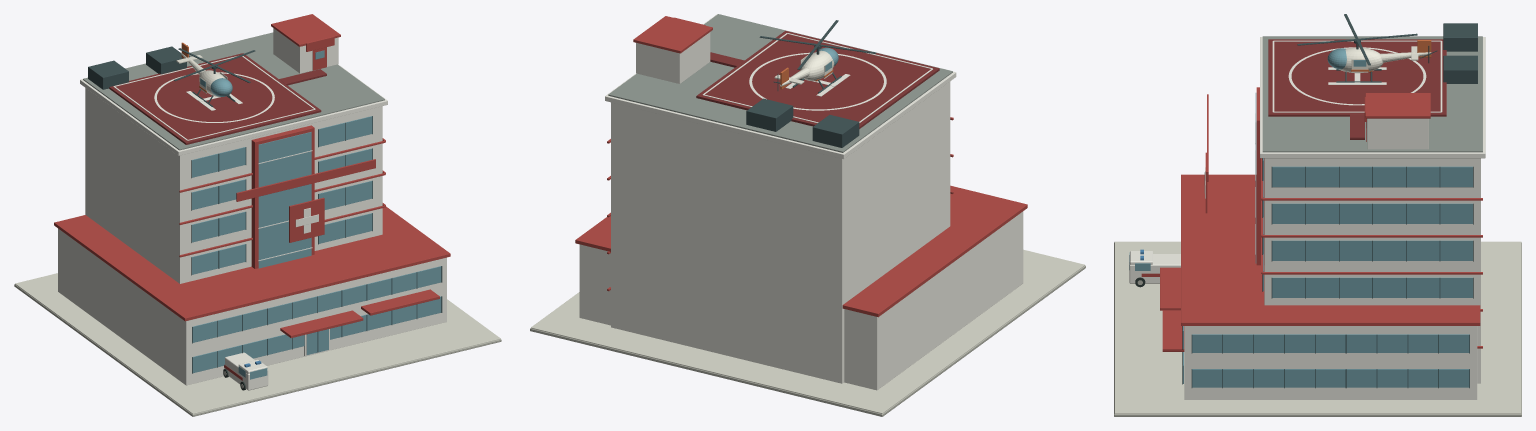
The model's file is medical-large-hospital.glb.
3 views of the same model, side by side, from view 1: azimuth 30°, elevation 25°; view 2: azimuth 150°, elevation 25°; view 3: azimuth 270°, elevation 25° (orthographic). The views are drawn at different scales.
Visible parts, largest first — view 1: MainHospital, BroadMedicalPodium, PodiumCornice, Paving, HelipadDeck, RoofDeck, CoreGlass, MedicalWindowBand.013, MedicalWindowBand.012, HospitalRoof, CentralTealCore, Lot (+21 smaller); view 2: MainHospital, BroadMedicalPodium, Paving, HelipadDeck, RoofDeck, PodiumCornice, HospitalRoof, RoofStairEnclosure, Lot, StairRoof, RoofPlant, RoofPlant.001 (+2 smaller); view 3: Paving, PodiumCornice, MainHospital, BroadMedicalPodium, HelipadDeck, RoofDeck, MedicalSideGlass.006, MedicalSideGlass.007, MedicalSideGlass.005, MedicalSideGlass.002, MedicalSideGlass.003, MedicalSideGlass.004 (+16 smaller).
Boxes of the visible parts, box(x1,y1,x2,y2) form: MainHospital: box(85, 88, 382, 283); BroadMedicalPodium: box(58, 228, 446, 385); PodiumCornice: box(54, 206, 450, 321); Paving: box(15, 273, 500, 414); HelipadDeck: box(109, 53, 321, 144); RoofDeck: box(83, 32, 384, 150); CoreGlass: box(258, 132, 311, 268); MedicalWindowBand.013: box(192, 266, 441, 342); MedicalWindowBand.012: box(192, 296, 441, 373); HospitalRoof: box(80, 64, 387, 155); CentralTealCore: box(251, 125, 314, 268); Lot: box(14, 284, 501, 416); MainHospital: box(611, 81, 950, 383); BroadMedicalPodium: box(579, 211, 1023, 390); Paving: box(531, 249, 1084, 413); HelipadDeck: box(696, 30, 939, 128); RoofDeck: box(608, 14, 952, 152); PodiumCornice: box(575, 185, 1027, 317); HospitalRoof: box(605, 14, 956, 158); RoofStairEnclosure: box(636, 32, 710, 83); Lot: box(530, 265, 1085, 416); StairRoof: box(633, 16, 712, 53); RoofPlant: box(812, 114, 859, 147); RoofPlant.001: box(746, 98, 793, 131); Paving: box(1114, 241, 1521, 413); PodiumCornice: box(1181, 174, 1480, 325); MainHospital: box(1264, 158, 1480, 383); BroadMedicalPodium: box(1184, 326, 1477, 399); HelipadDeck: box(1268, 39, 1446, 116); RoofDeck: box(1262, 36, 1482, 152); MedicalSideGlass.006: box(1192, 369, 1469, 387); MedicalSideGlass.007: box(1192, 334, 1469, 352); MedicalSideGlass.005: box(1272, 166, 1472, 187); MedicalSideGlass.002: box(1272, 277, 1472, 297); MedicalSideGlass.003: box(1272, 240, 1472, 260); MedicalSideGlass.004: box(1272, 203, 1472, 223).
Size of the model in its own units: 32 by 24 by 32.
